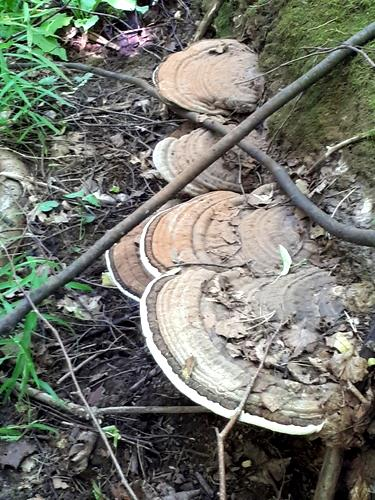Ganoderma - Fruit Body: (137, 276, 375, 430), (139, 194, 303, 269), (154, 38, 262, 113), (154, 128, 274, 186), (110, 217, 139, 292)
